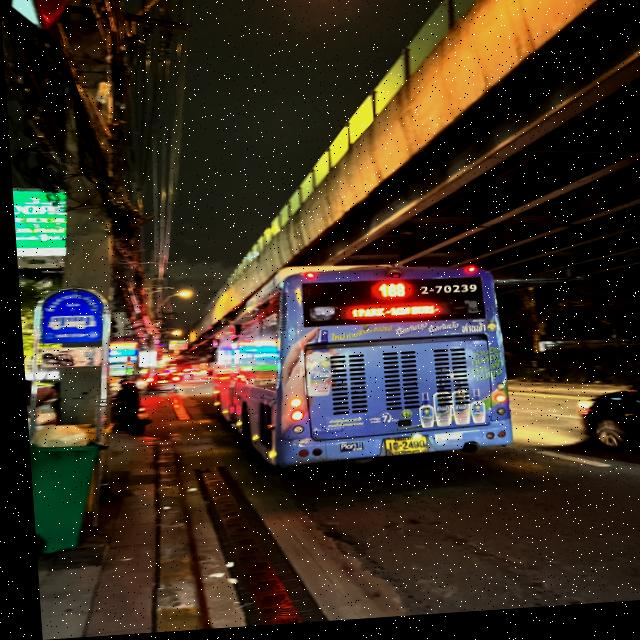BMTA-bus: (202, 262, 509, 479)
Bus-Line-Number: (370, 285, 405, 305)
Destination-Sign-Normal: (416, 286, 474, 305)
